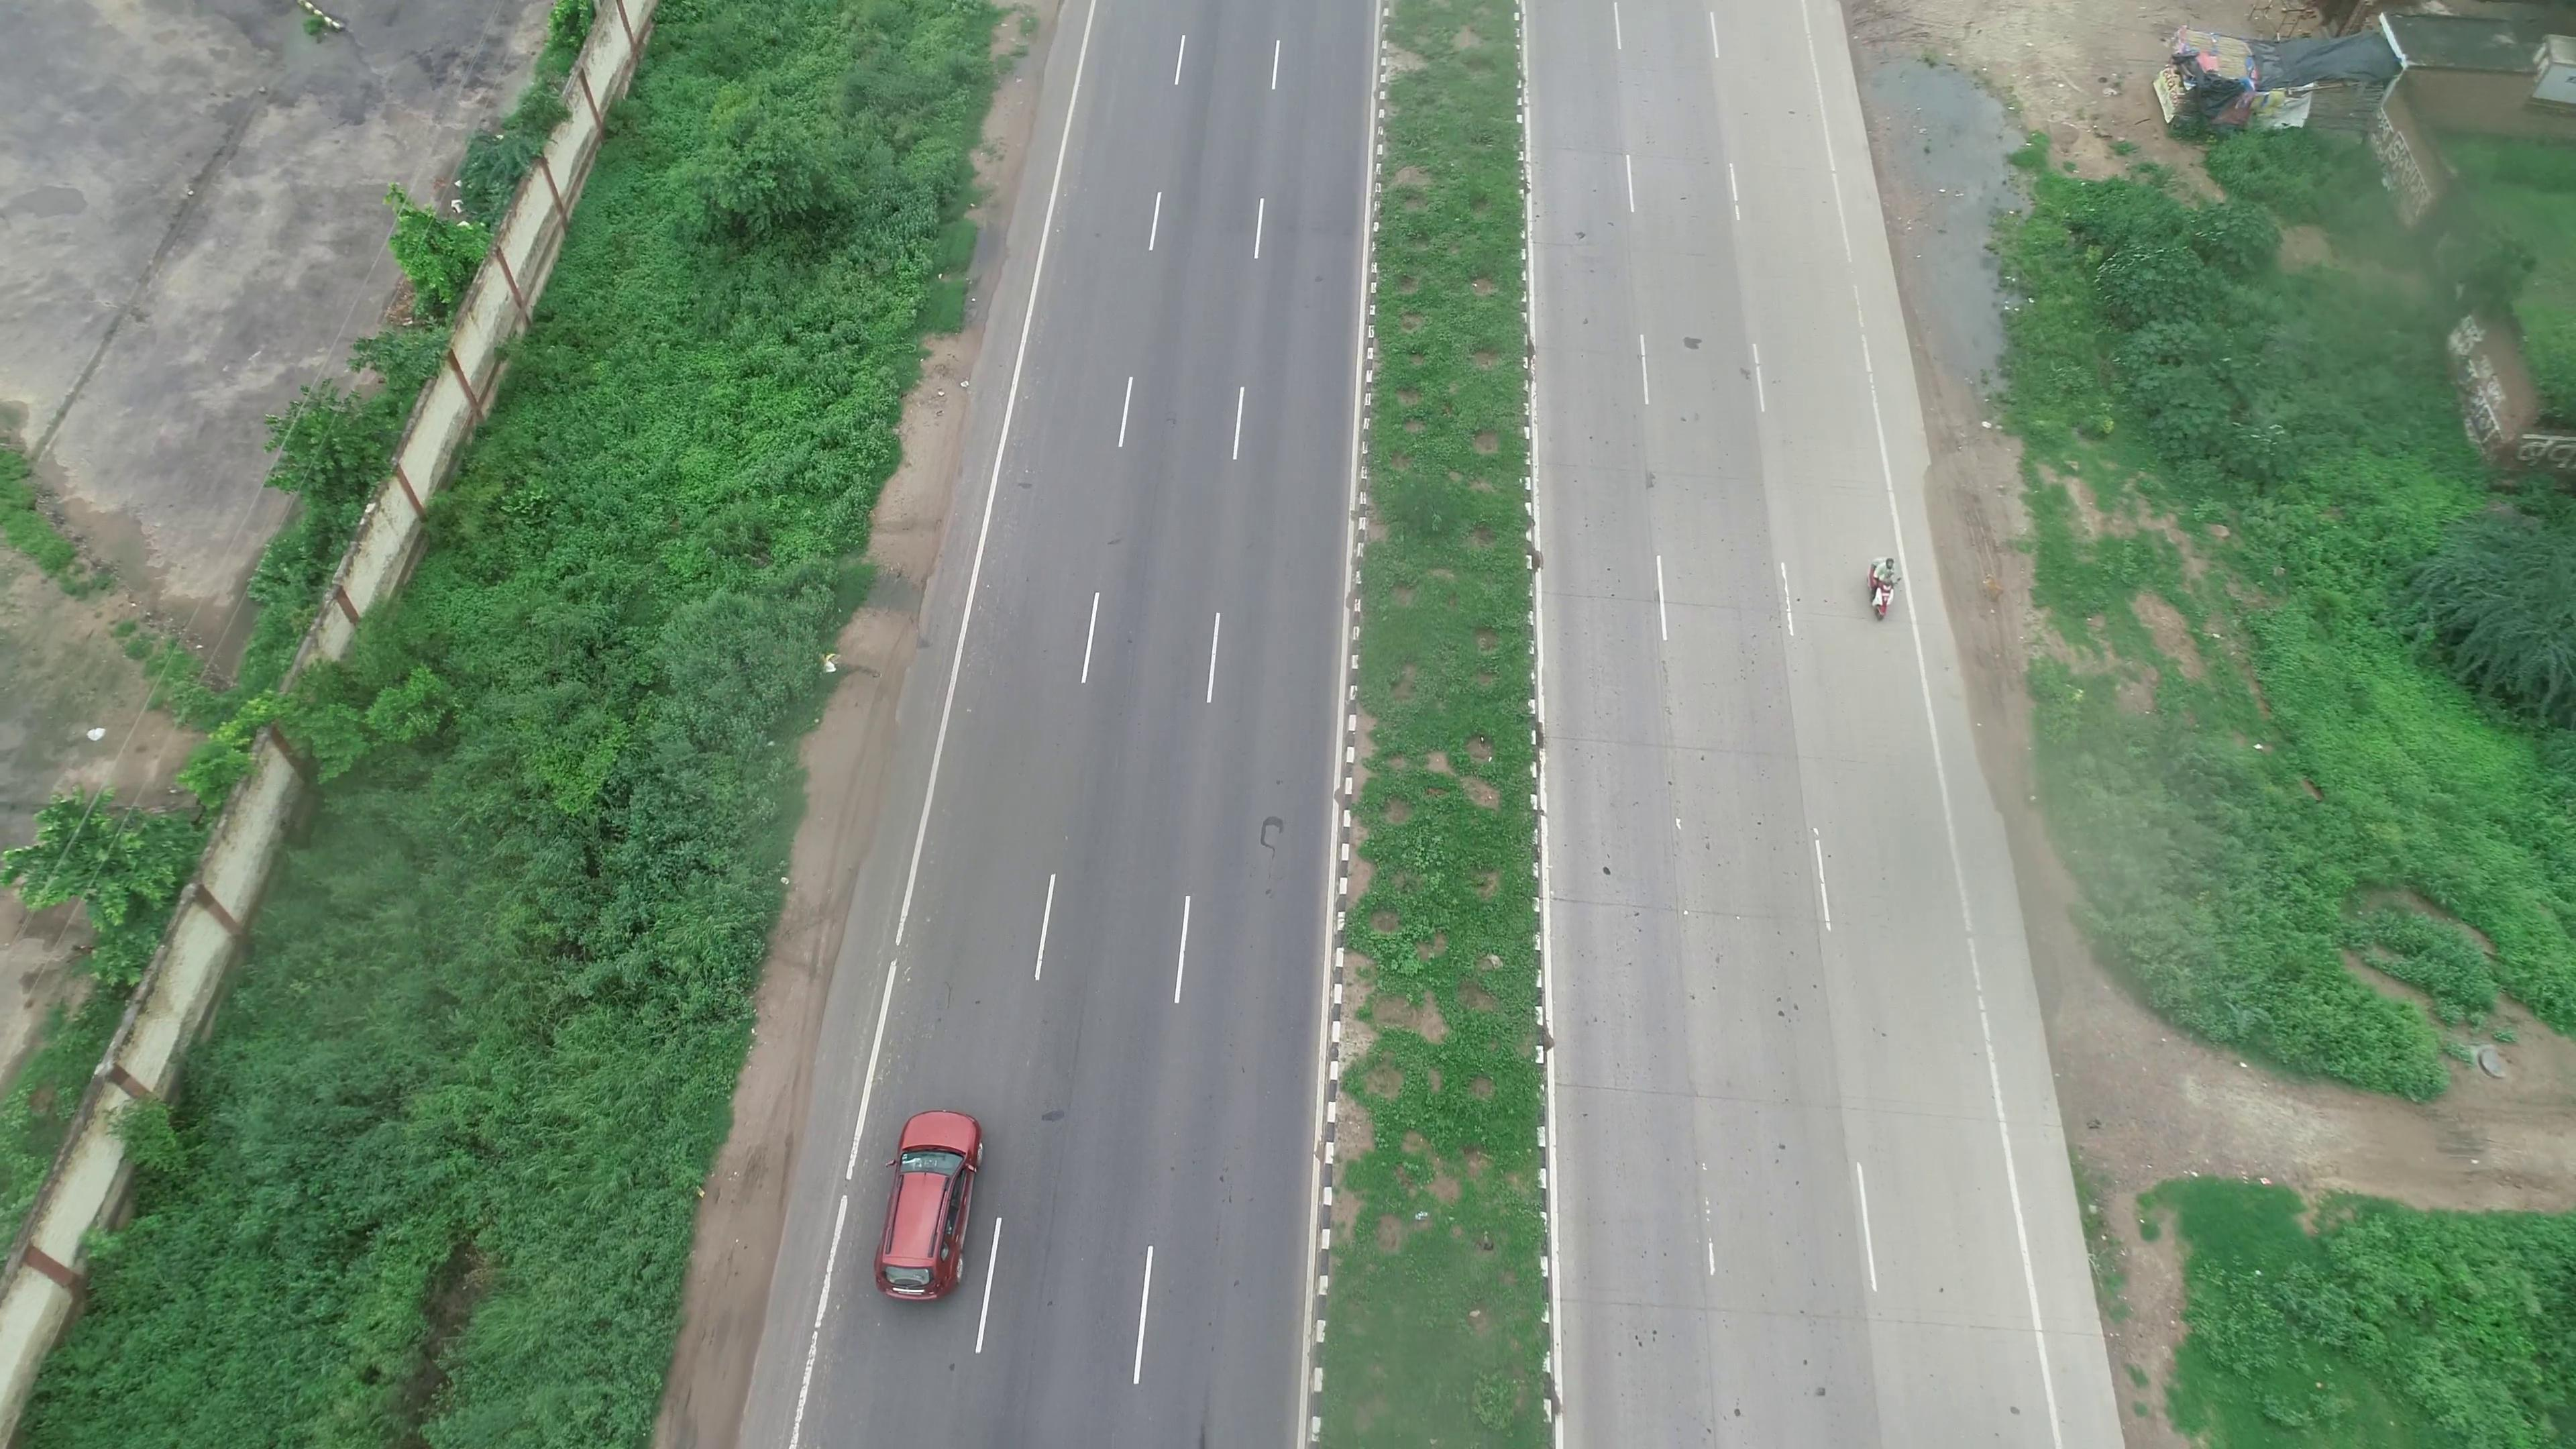Potholes: (1210, 782, 1313, 885)
